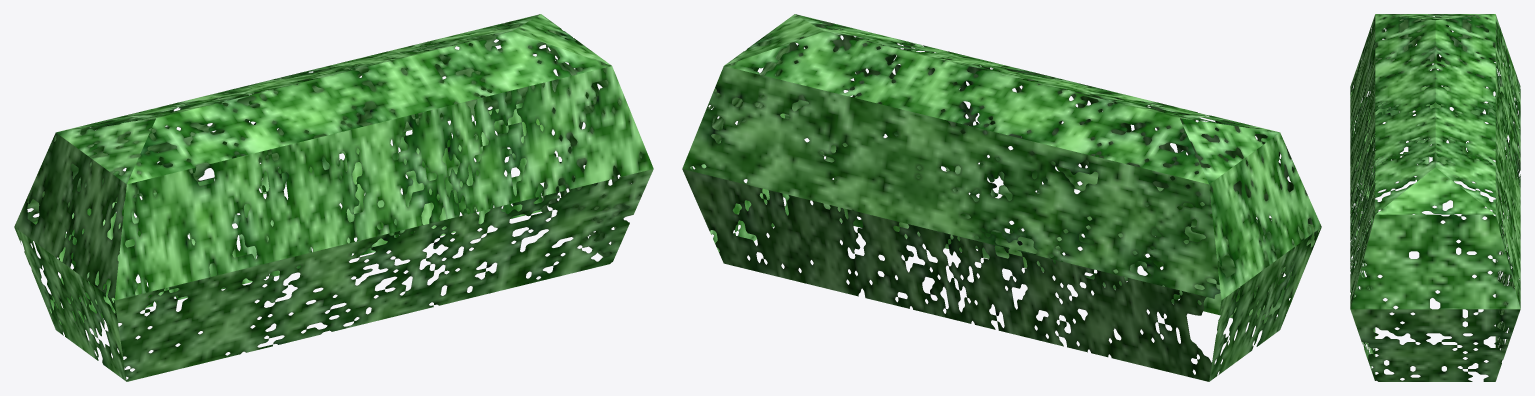
The model's file is bush_long_single_spring.fbx.
3 renders of one model, left to right at view 1: azimuth 30°, elevation 25°; view 2: azimuth 150°, elevation 25°; view 3: azimuth 270°, elevation 25°, orthographic. The views are drawn at different scales.
Visible parts, largest first — view 1: bush_long_single_spring; view 2: bush_long_single_spring; view 3: bush_long_single_spring.
Boxes of the visible parts, <box> form: bush_long_single_spring: <box>14,14,653,381</box>; bush_long_single_spring: <box>682,14,1321,381</box>; bush_long_single_spring: <box>1350,14,1520,381</box>.
Size of the model in its own units: 223 by 87.65 by 71.91.
Materials: 1 (1 with a texture image).
